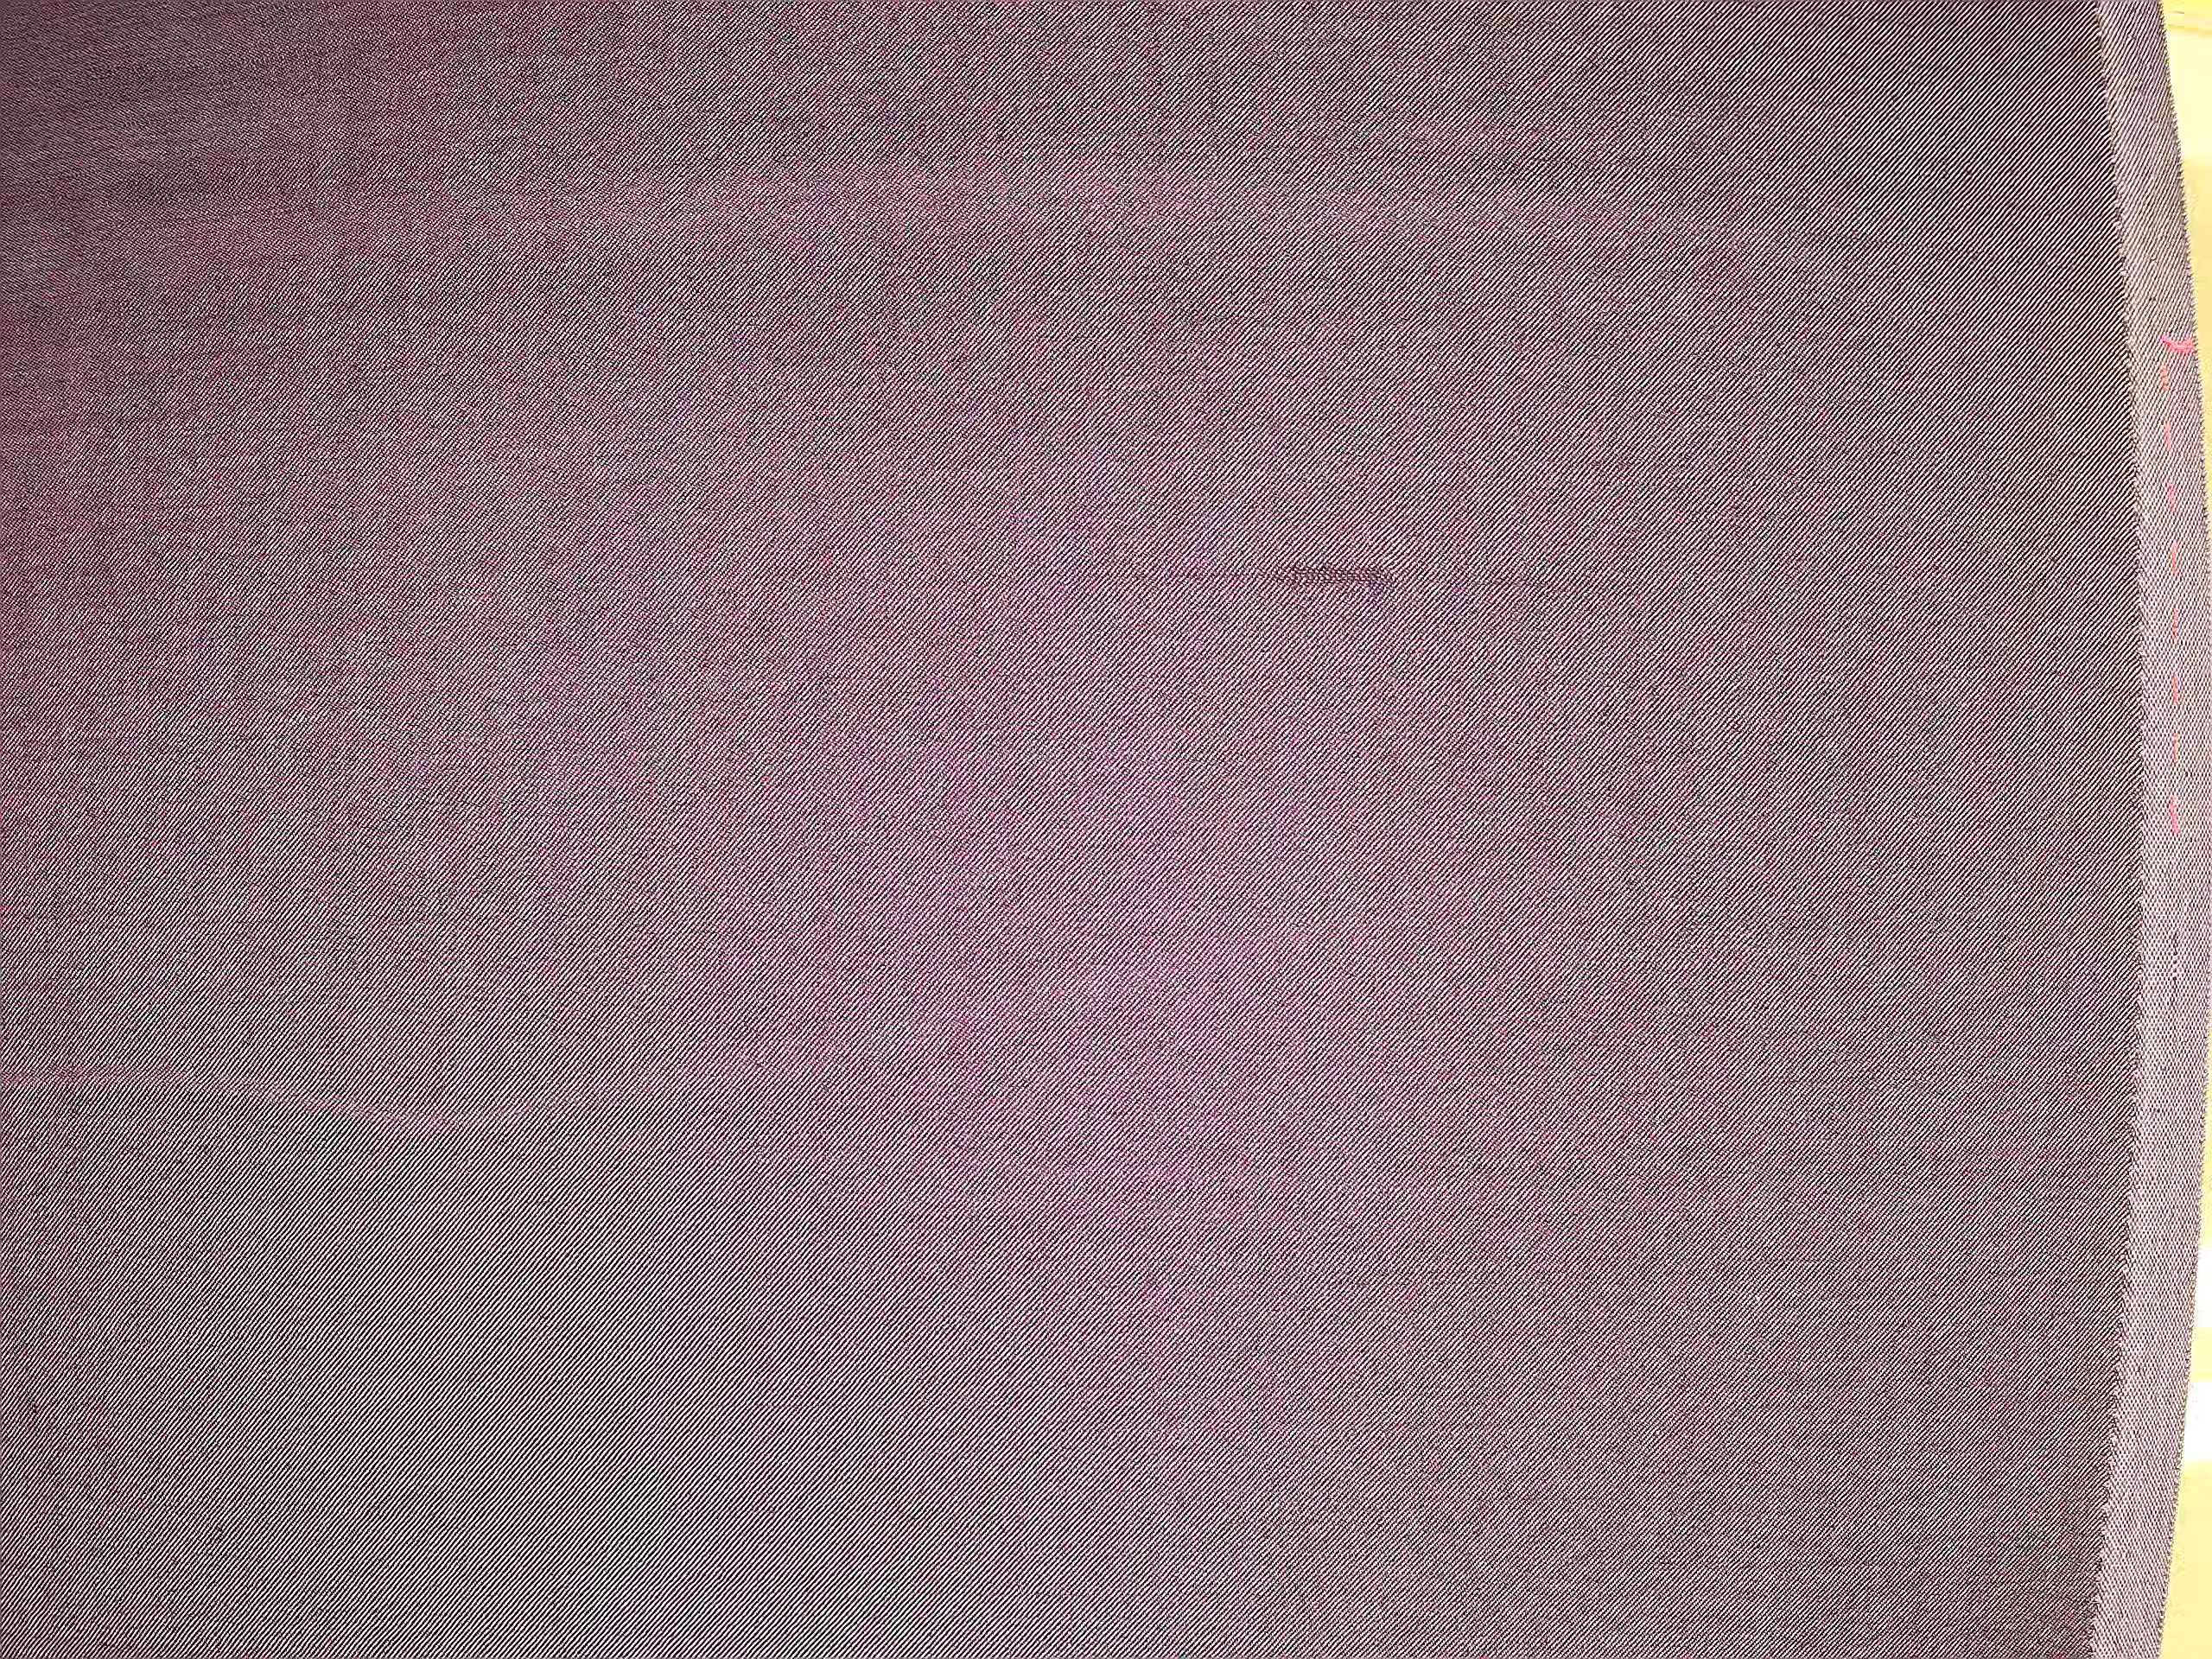thin-spinning: (1075, 535, 1571, 619)
